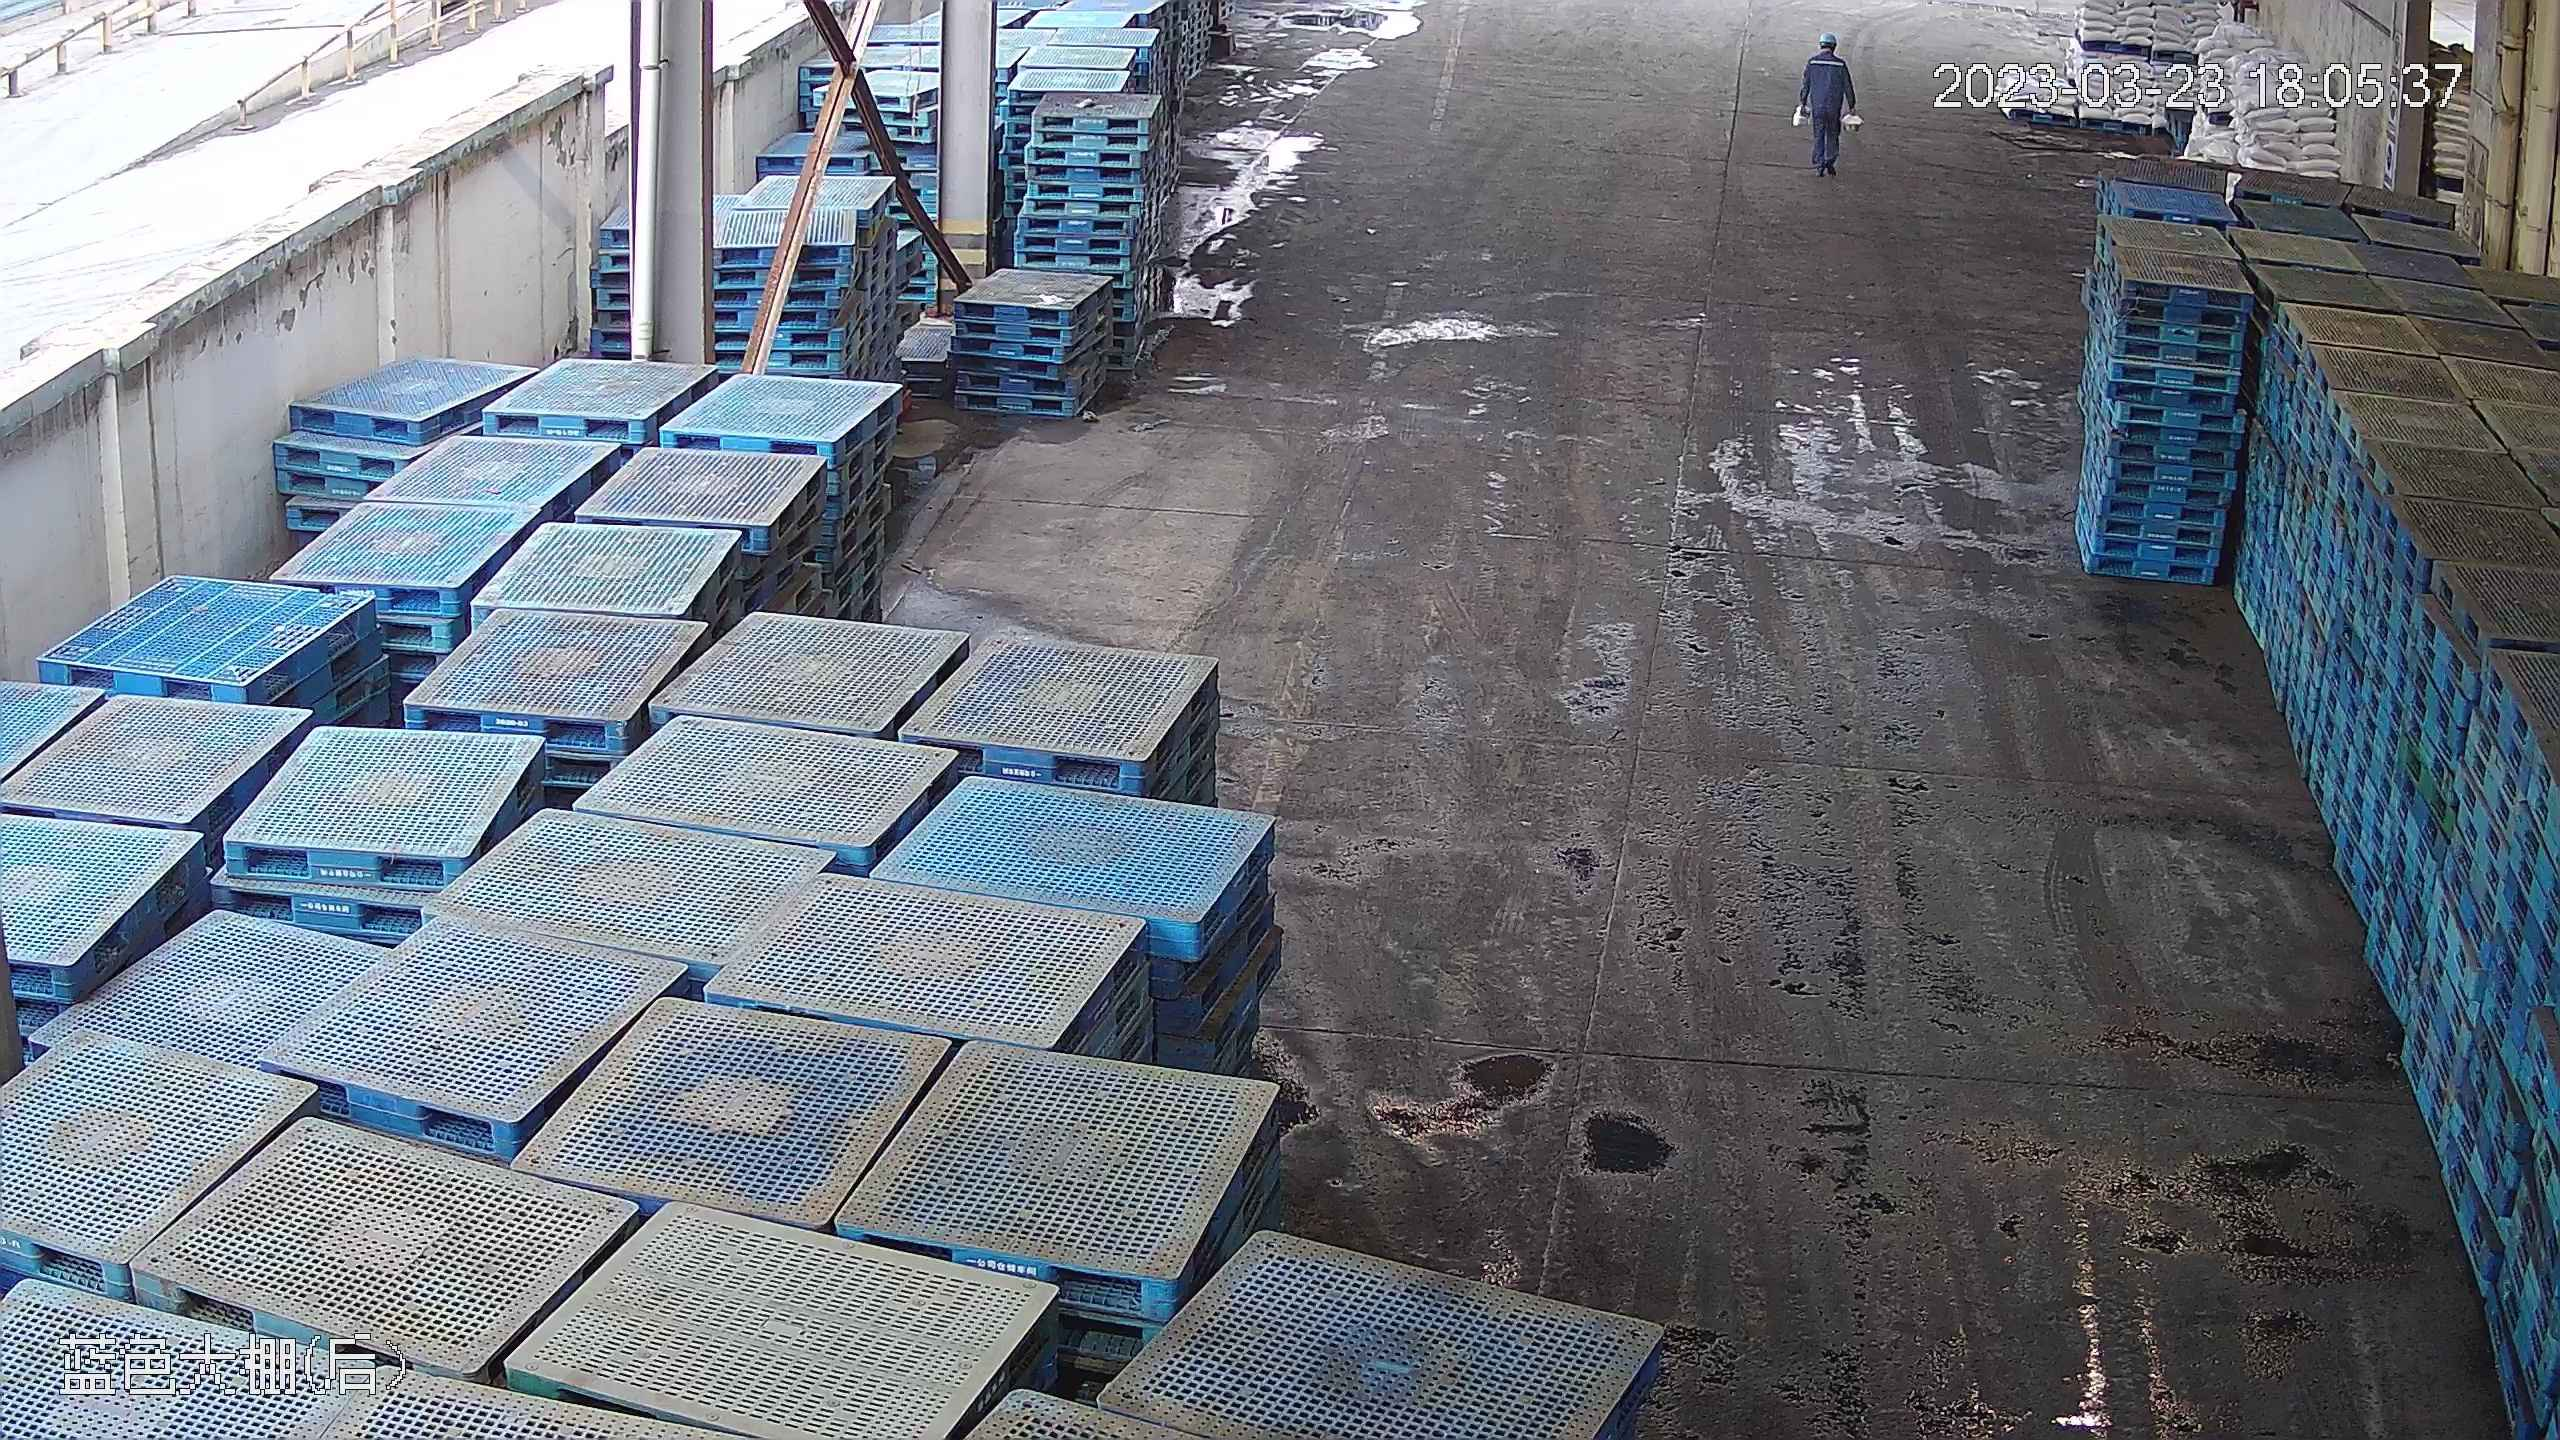head: (1801, 30, 1852, 80)
helmet: (1818, 32, 1838, 47)
people: (1798, 30, 1858, 182)
